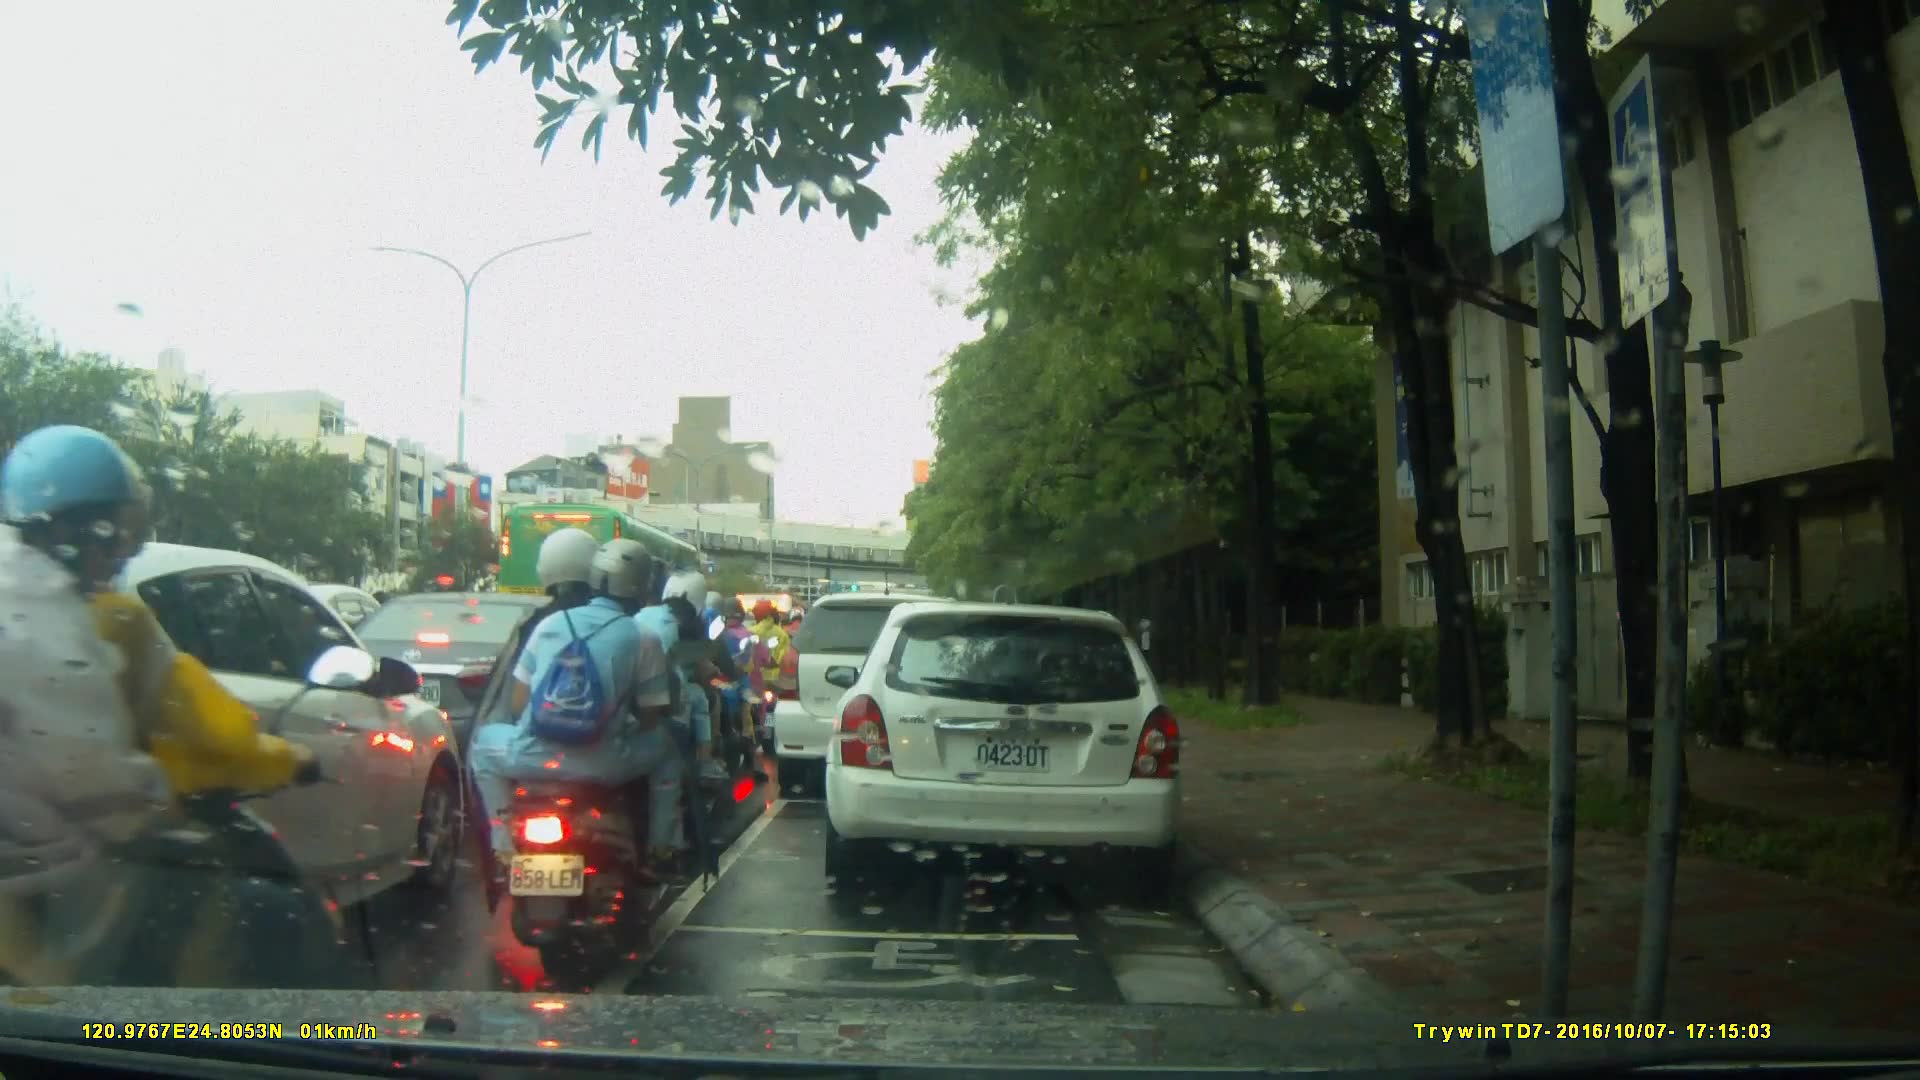rider: (1, 419, 434, 1069), (465, 530, 712, 983), (594, 562, 717, 838), (688, 587, 768, 783), (705, 598, 777, 764), (749, 598, 797, 737)
vehicle: (3, 536, 460, 987), (831, 592, 1196, 897), (312, 590, 629, 776), (773, 590, 999, 803), (497, 501, 712, 636)
